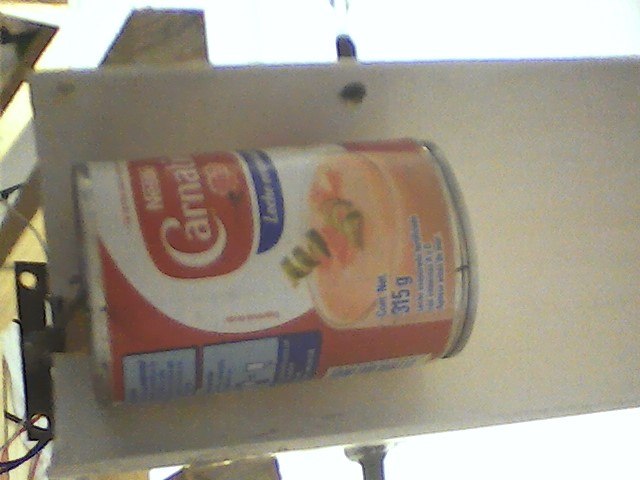lata: (63, 134, 486, 417)
